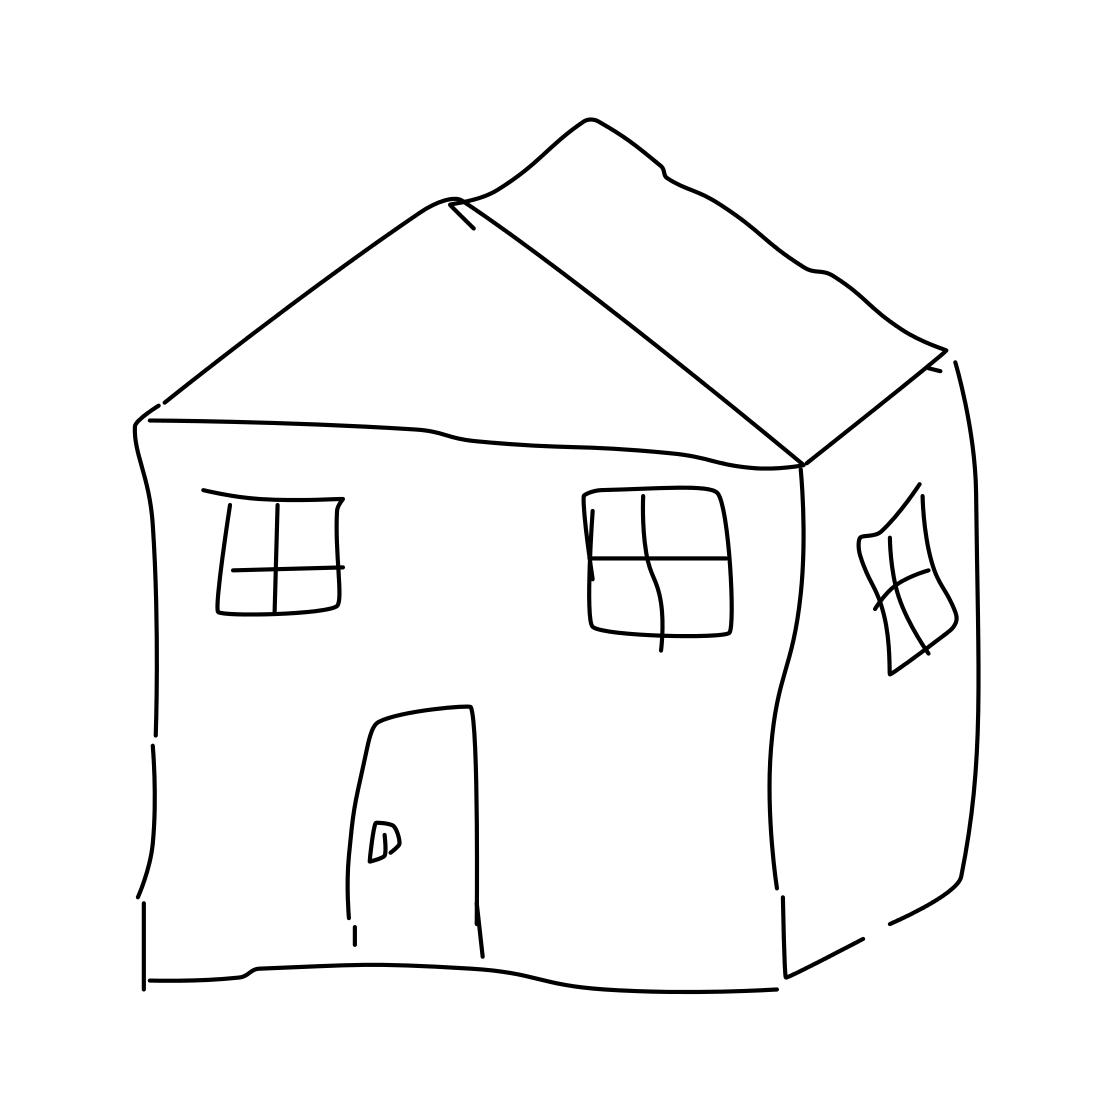House: (70, 87, 1015, 1020)
